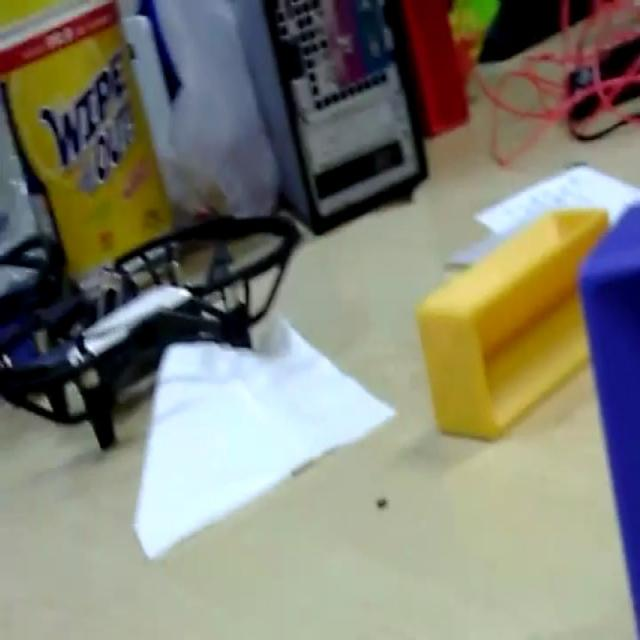blue_block: (576, 199, 639, 632)
yellow_block: (415, 204, 609, 440)
